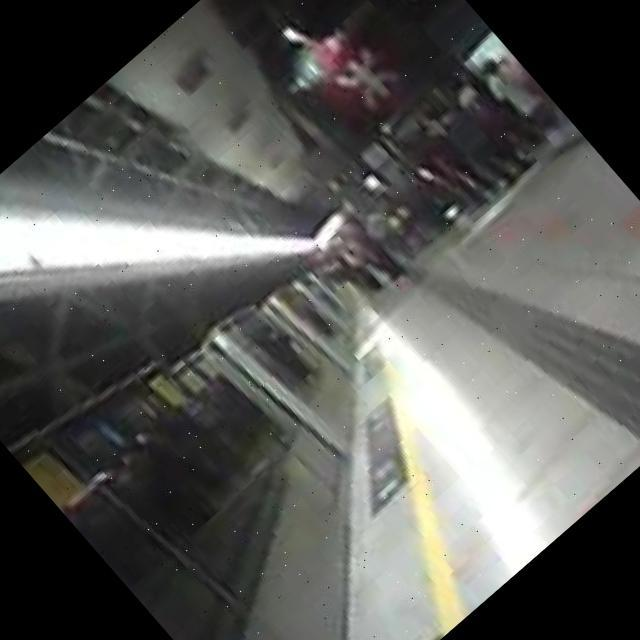person: (474, 46, 582, 162), (443, 71, 541, 178), (434, 94, 528, 194), (352, 200, 433, 288)
